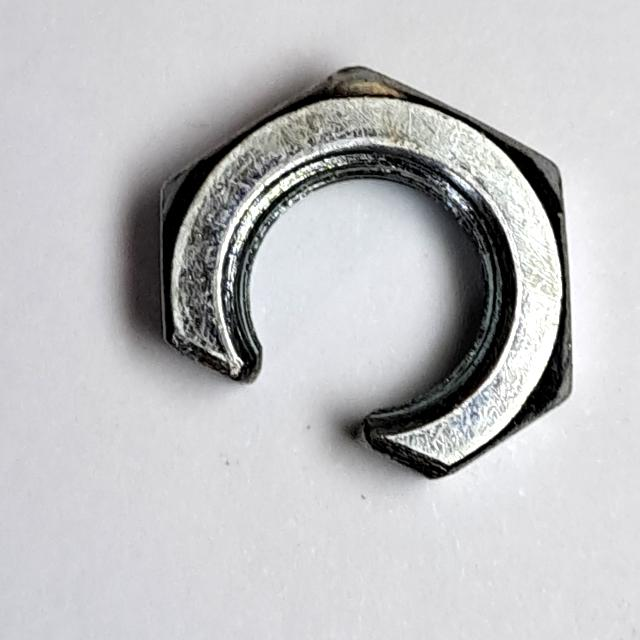Fracture: (134, 51, 589, 503)
